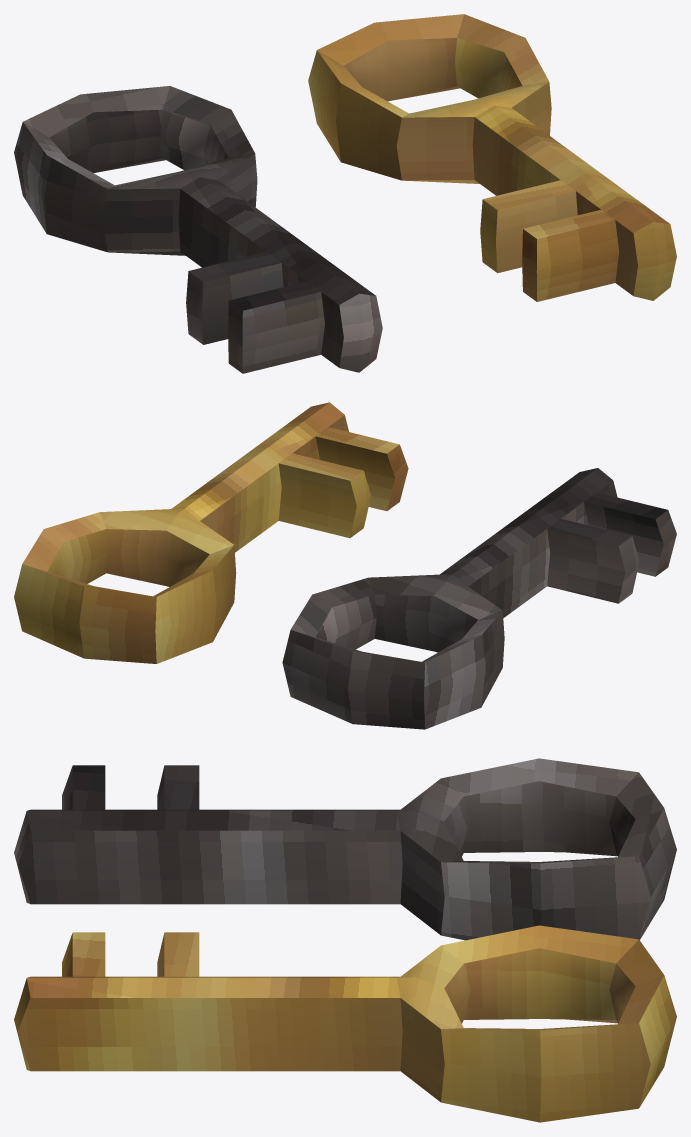
Rendered from keys.fbx.
The picture shows the model from 3 angles, top to bottom: view 1: azimuth 30°, elevation 25°; view 2: azimuth 150°, elevation 25°; view 3: azimuth 270°, elevation 25°; orthographic projection. The views are drawn at different scales.
Parts seen in each view (by area): view 1: key_alt, key; view 2: key, key_alt; view 3: key_alt, key.
Boxes of the visible parts, x1,y1,x2,y2 form: key_alt: [308, 14, 676, 301]; key: [14, 86, 382, 373]; key: [282, 468, 676, 729]; key_alt: [14, 402, 408, 663]; key_alt: [14, 925, 676, 1122]; key: [14, 758, 676, 940].
Bounding box in the file's own units: 34.51 × 5.29 × 34.52.
Materials: 2 (2 with a texture image).
